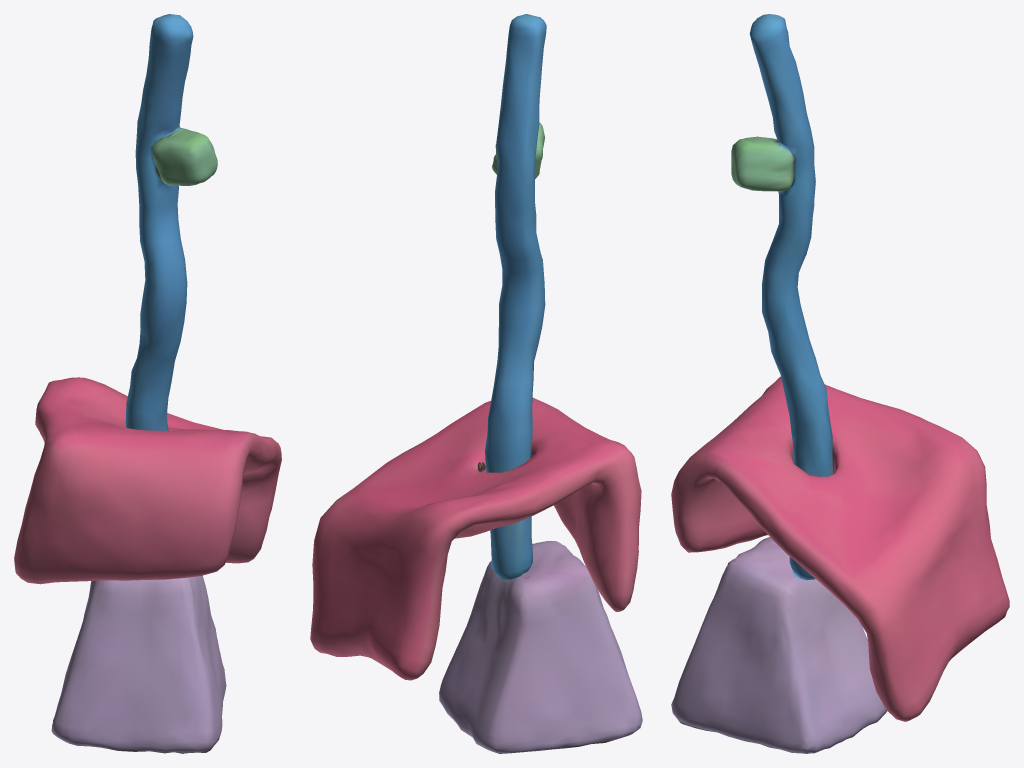
3 views of the same model, side by side, from view 1: azimuth 30°, elevation 25°; view 2: azimuth 150°, elevation 25°; view 3: azimuth 270°, elevation 25° (orthographic). The views are drawn at different scales.
Parts seen in each view (by area): view 1: tripo_node_1711af7b-db6b-4d5d-a242-919ccf0bb3b0; view 2: tripo_node_1711af7b-db6b-4d5d-a242-919ccf0bb3b0; view 3: tripo_node_1711af7b-db6b-4d5d-a242-919ccf0bb3b0.
Part boxes in pixels (x1,y1,x2,y2): tripo_node_1711af7b-db6b-4d5d-a242-919ccf0bb3b0: (14,14,281,753); tripo_node_1711af7b-db6b-4d5d-a242-919ccf0bb3b0: (310,14,642,753); tripo_node_1711af7b-db6b-4d5d-a242-919ccf0bb3b0: (671,14,1009,753).
Size of the model in its own units: 0.4325 by 1 by 0.4305.
1 material, 1 textured.
